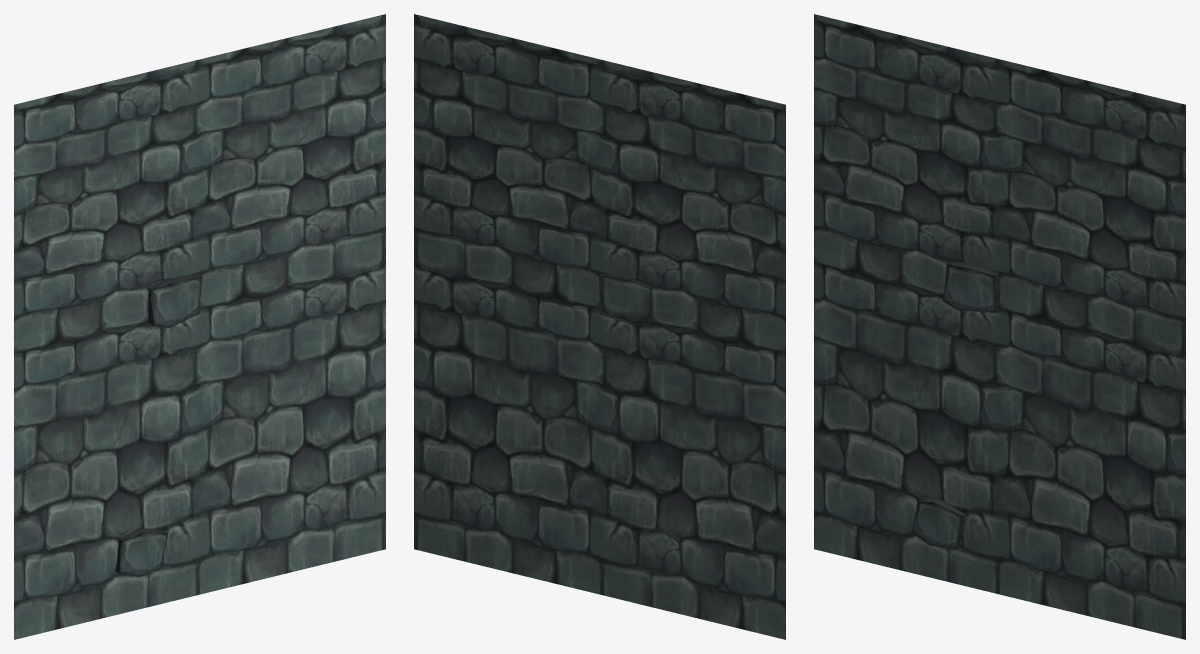
The model's file is crypt_wall_straight_03_a.fbx.
3 views of the same model, side by side, from view 1: azimuth 30°, elevation 25°; view 2: azimuth 150°, elevation 25°; view 3: azimuth 330°, elevation 25° (orthographic).
Parts seen in each view (by area): view 1: crypt_wall_straight_03_a-0; view 2: crypt_wall_straight_03_a-0; view 3: crypt_wall_straight_03_a-0.
Boxes of the visible parts, x1,y1,x2,y2 form: crypt_wall_straight_03_a-0: (14, 14, 385, 639); crypt_wall_straight_03_a-0: (414, 14, 785, 639); crypt_wall_straight_03_a-0: (814, 14, 1185, 639).
Size of the model in its own units: 4 by 5.5 by 0.1527.
